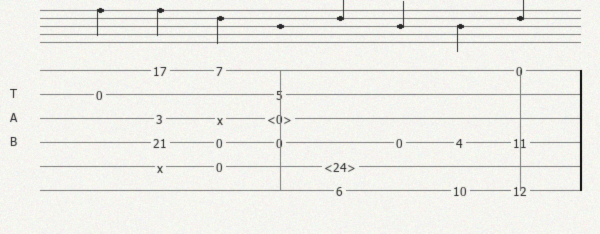0: (96, 88, 107, 101), (216, 160, 227, 173), (216, 136, 227, 149), (276, 136, 287, 149), (396, 136, 407, 149), (516, 64, 527, 77)
10: (453, 184, 471, 197)
11: (513, 136, 531, 149)
12: (513, 184, 531, 197)
17: (153, 64, 171, 77)
21: (153, 136, 171, 149)
3: (156, 112, 167, 125)
4: (456, 136, 467, 149)
5: (276, 88, 287, 101)
6: (336, 184, 347, 197)
7: (216, 64, 227, 77)
harmonic: (324, 160, 360, 173), (267, 112, 296, 125)
x: (157, 161, 167, 172), (217, 113, 227, 124)
